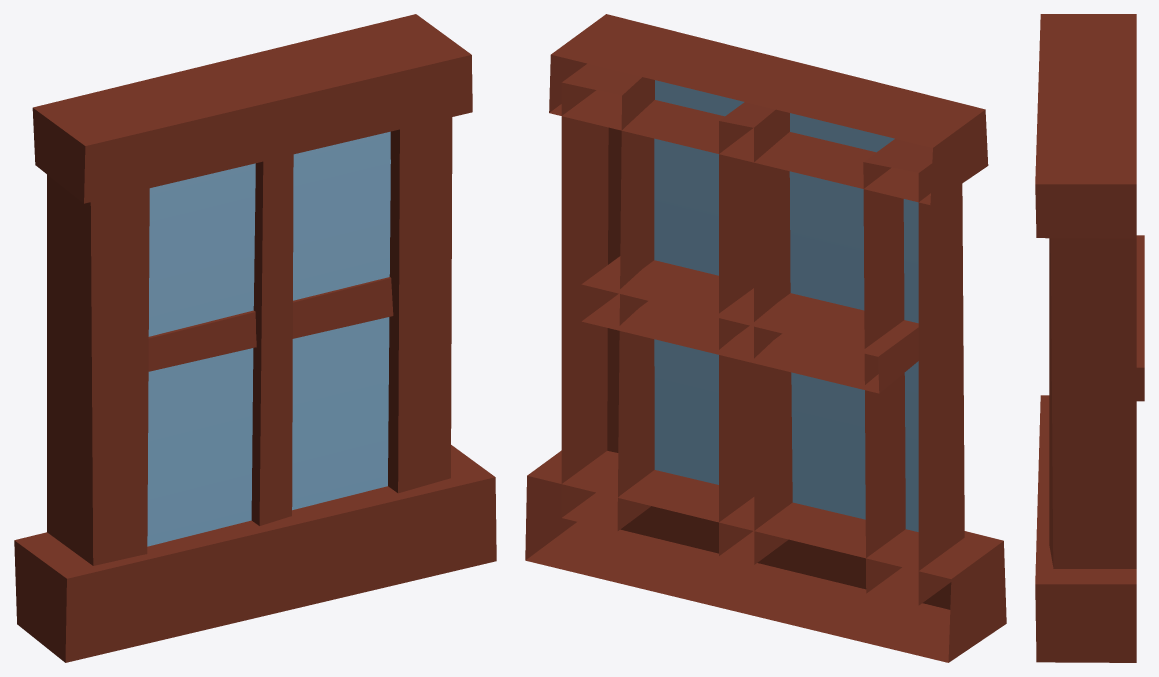
File: House_Window_A.fbx
3 views of the same model, side by side, from view 1: azimuth 30°, elevation 25°; view 2: azimuth 150°, elevation 25°; view 3: azimuth 270°, elevation 25° (orthographic). The views are drawn at different scales.
Parts seen in each view (by area): view 1: House_Window_A; view 2: House_Window_A; view 3: House_Window_A.
Boxes of the visible parts, x1,y1,x2,y2 form: House_Window_A: [14, 14, 496, 662]; House_Window_A: [525, 14, 1006, 662]; House_Window_A: [1035, 14, 1144, 662].
Bounding box in the file's own units: 86.44 × 98.8 × 20.98.
